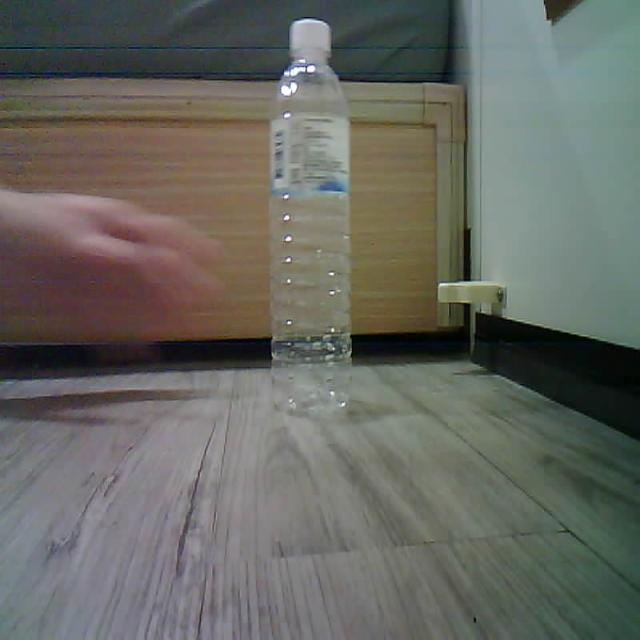bottle: (270, 18, 351, 410)
